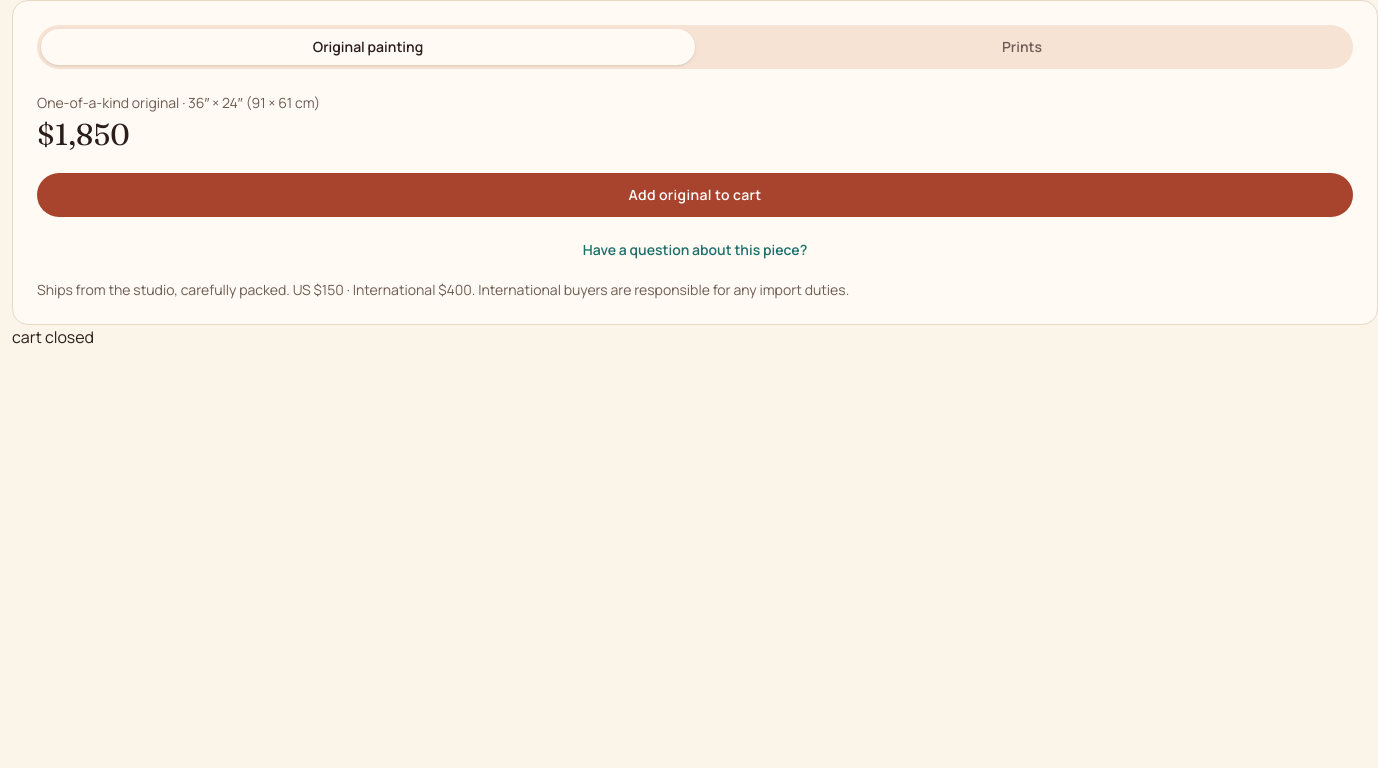
PurchasePanel: prints › falls back to the first size when the other material lacks it
Click the tab "Prints": (1022, 47) [695,29,1349,65]
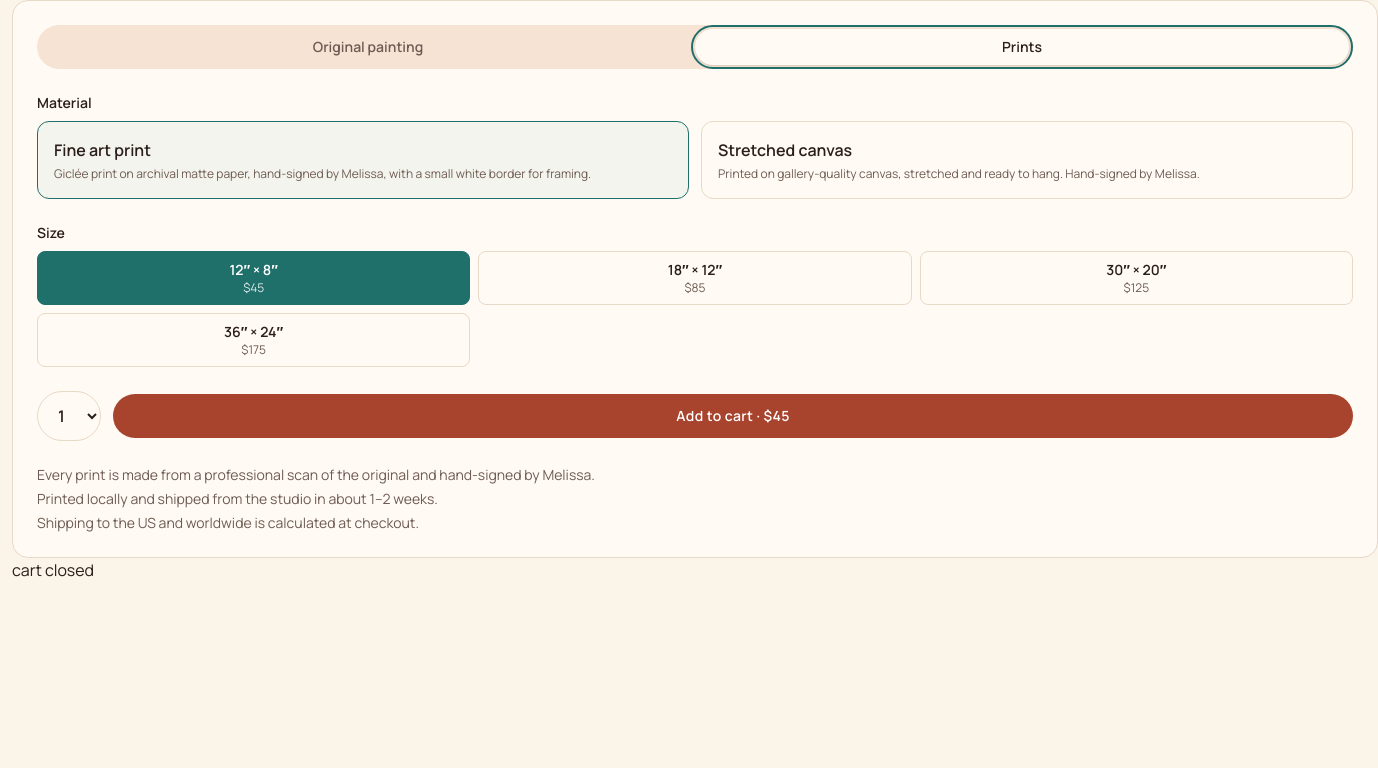
Click the radio button labelled "36″ × 24″ $175": (254, 340) [37,313,470,367]
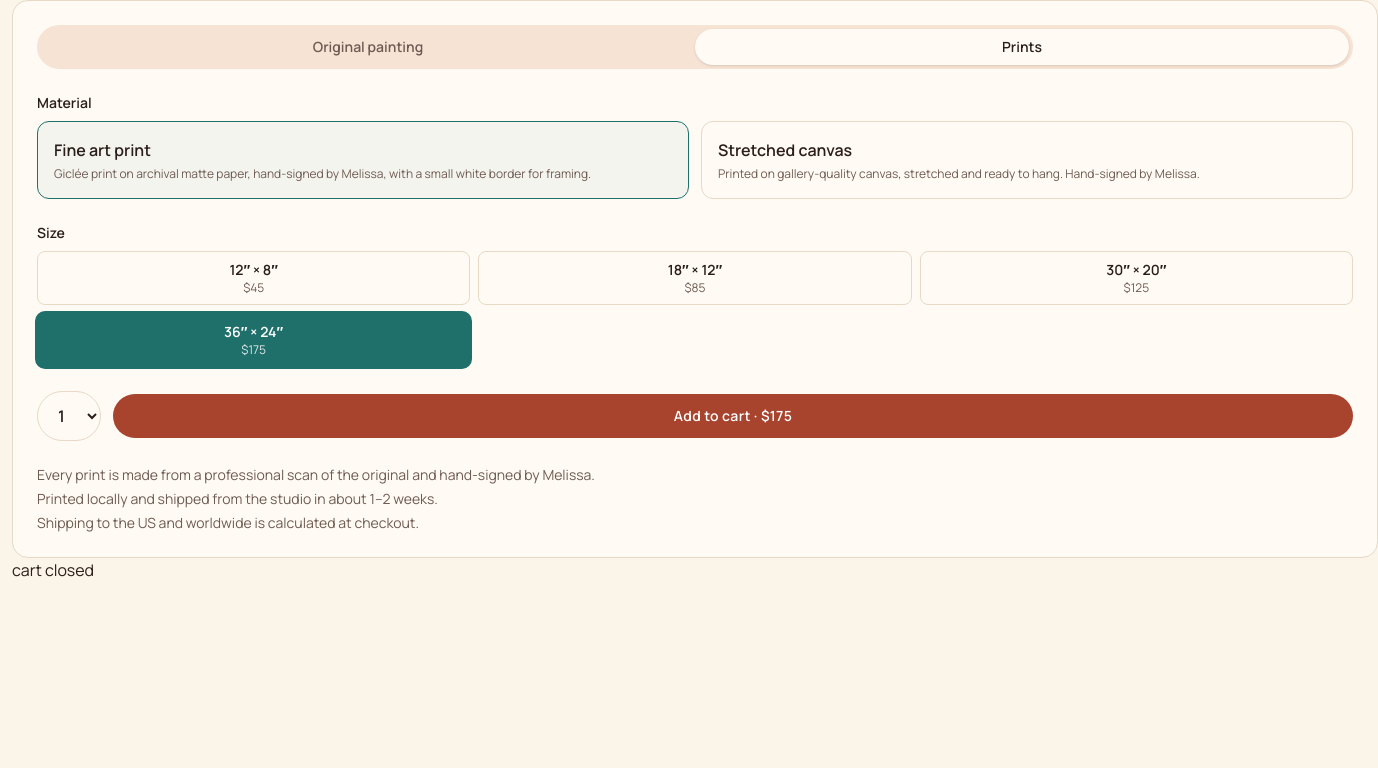
Click the radio button labelled "Stretched canvas": (785, 150) [701,121,1353,199]
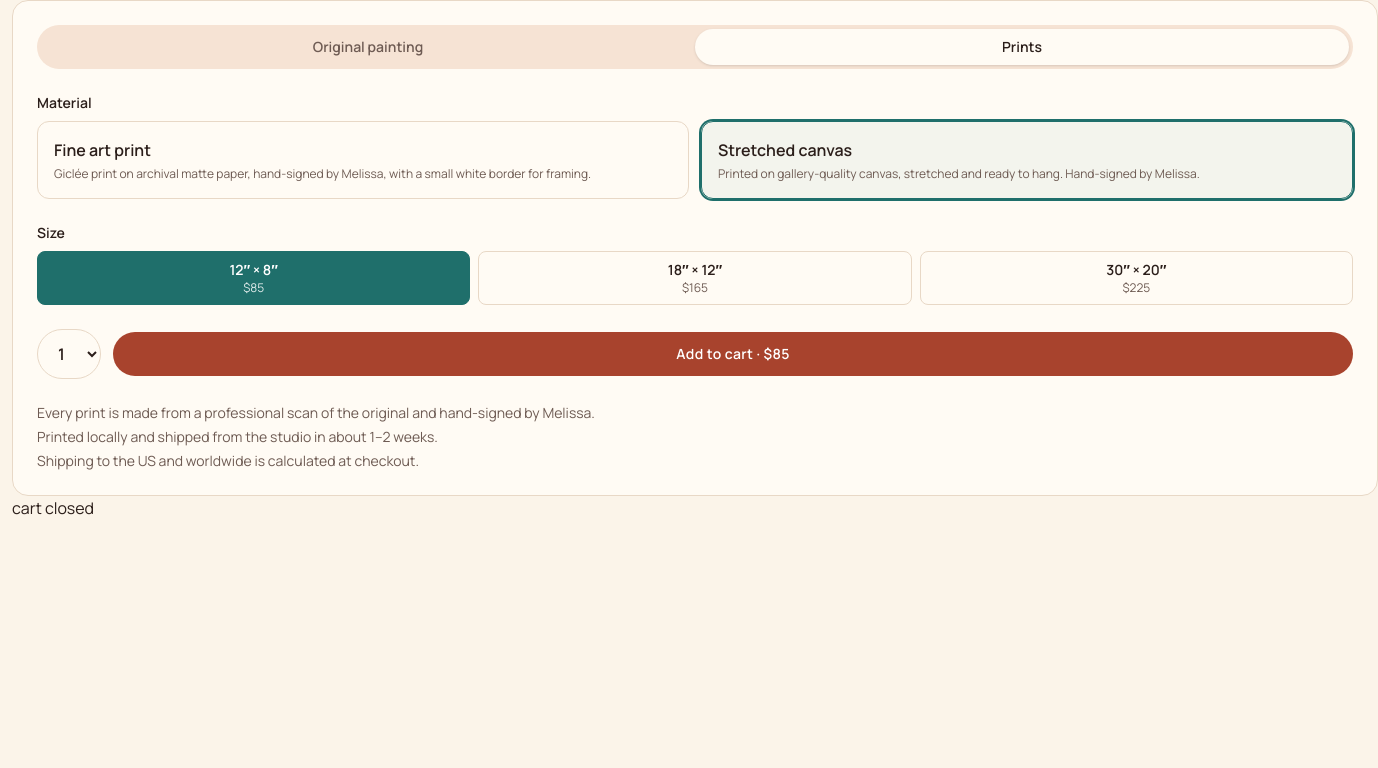
Expected: the radio button labelled "12″ × 8″ $85" is checked, [37,251,470,305]
